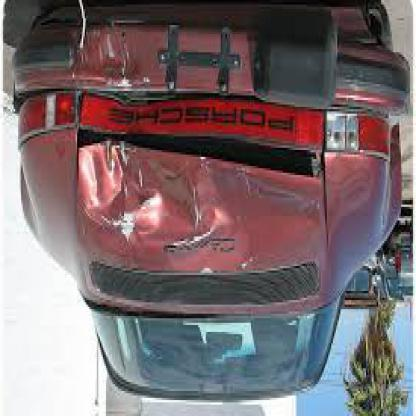dent: (79, 136, 325, 184), (79, 189, 201, 232)
